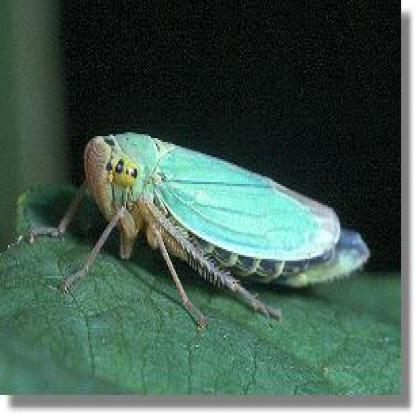Green-Leafhopper: (9, 124, 372, 329)
